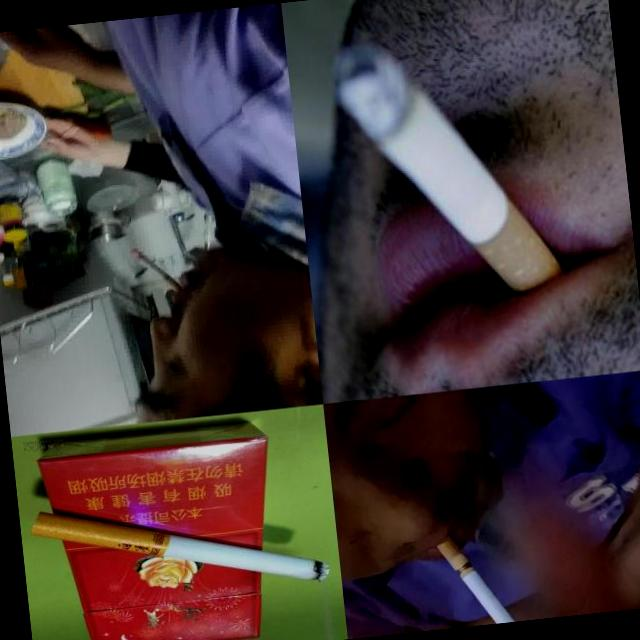smoke: (328, 17, 578, 336), (26, 482, 332, 612), (432, 524, 538, 629), (131, 245, 182, 298)
